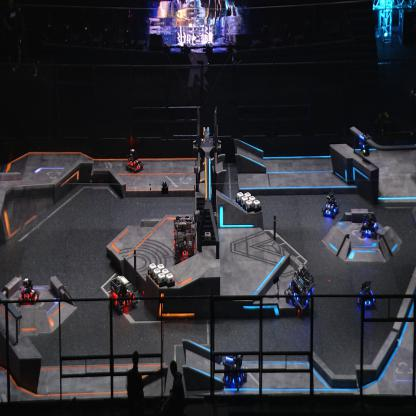car: (285, 262, 314, 317), (172, 216, 197, 266), (108, 274, 138, 313), (222, 354, 247, 391), (355, 280, 375, 310), (18, 278, 40, 305), (322, 189, 340, 219), (360, 212, 379, 240), (125, 147, 143, 173)
